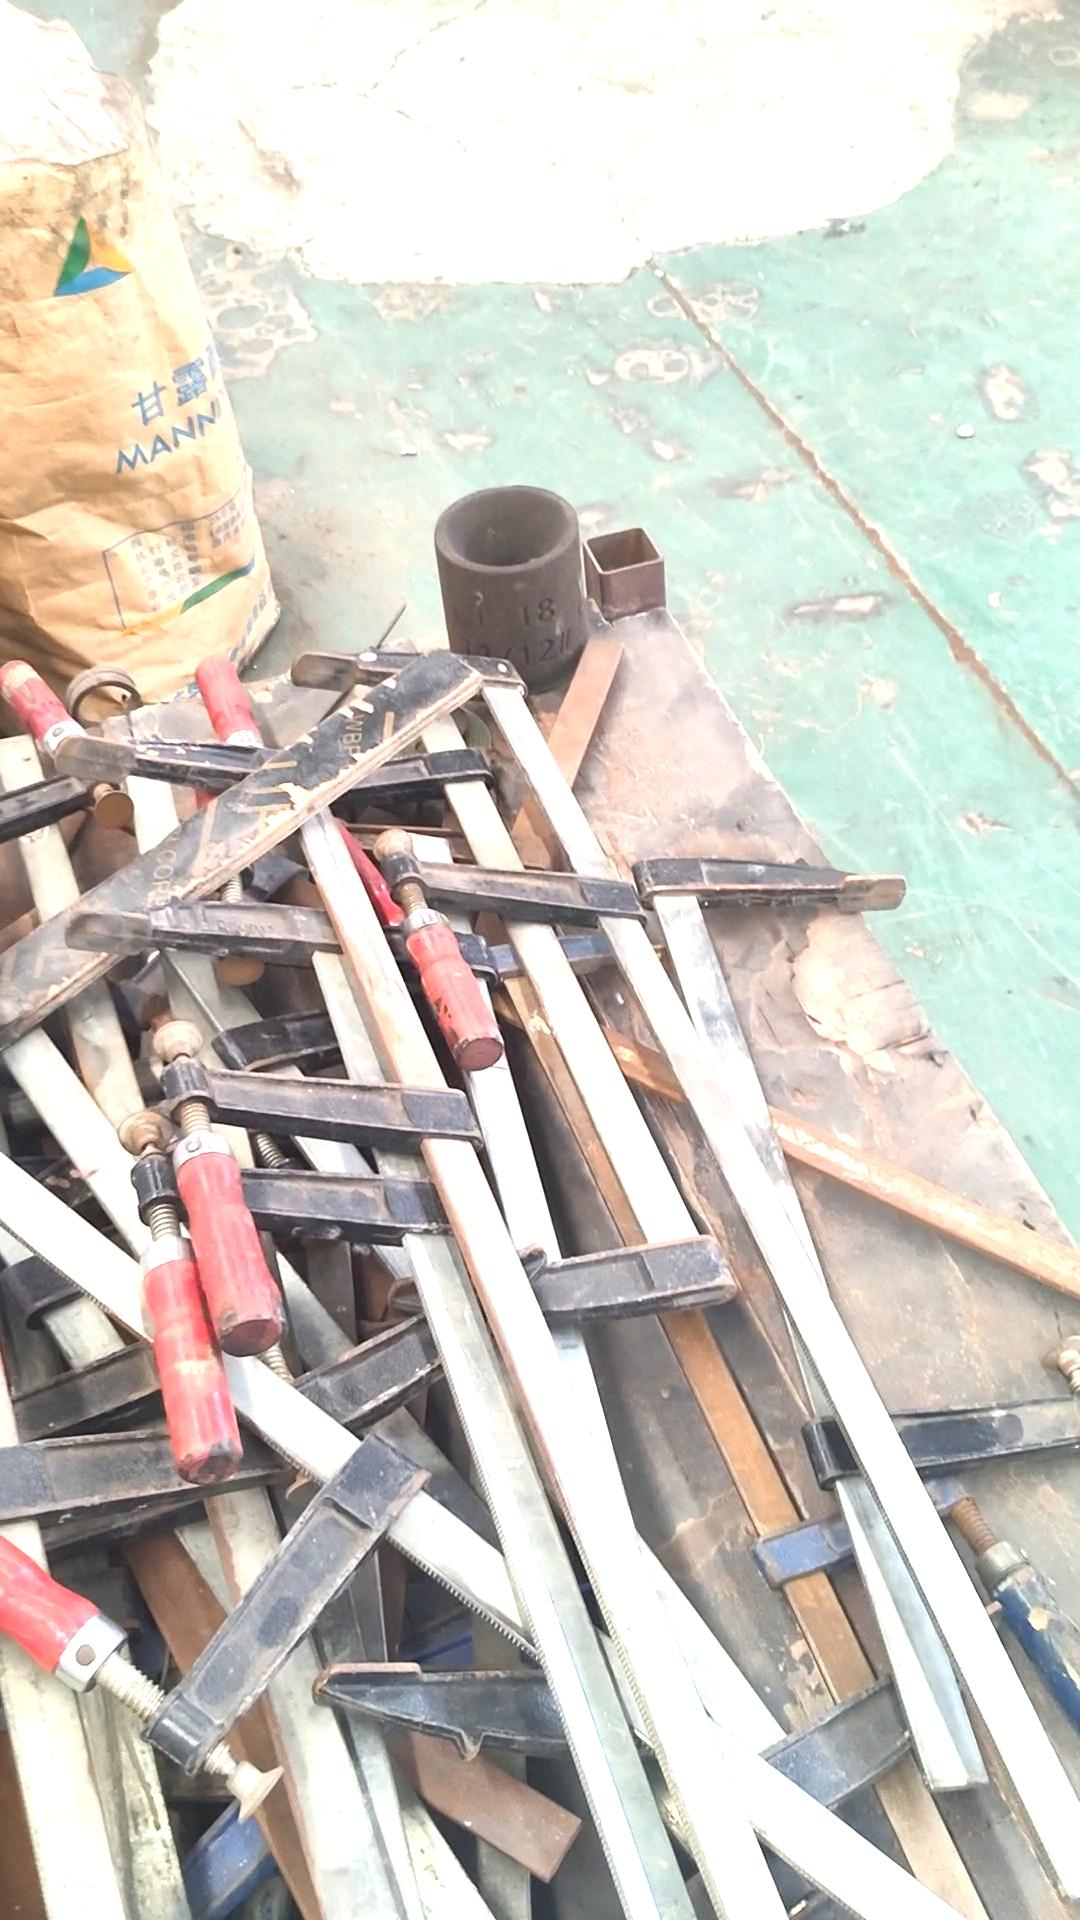pouring hole: (433, 483, 578, 574)
